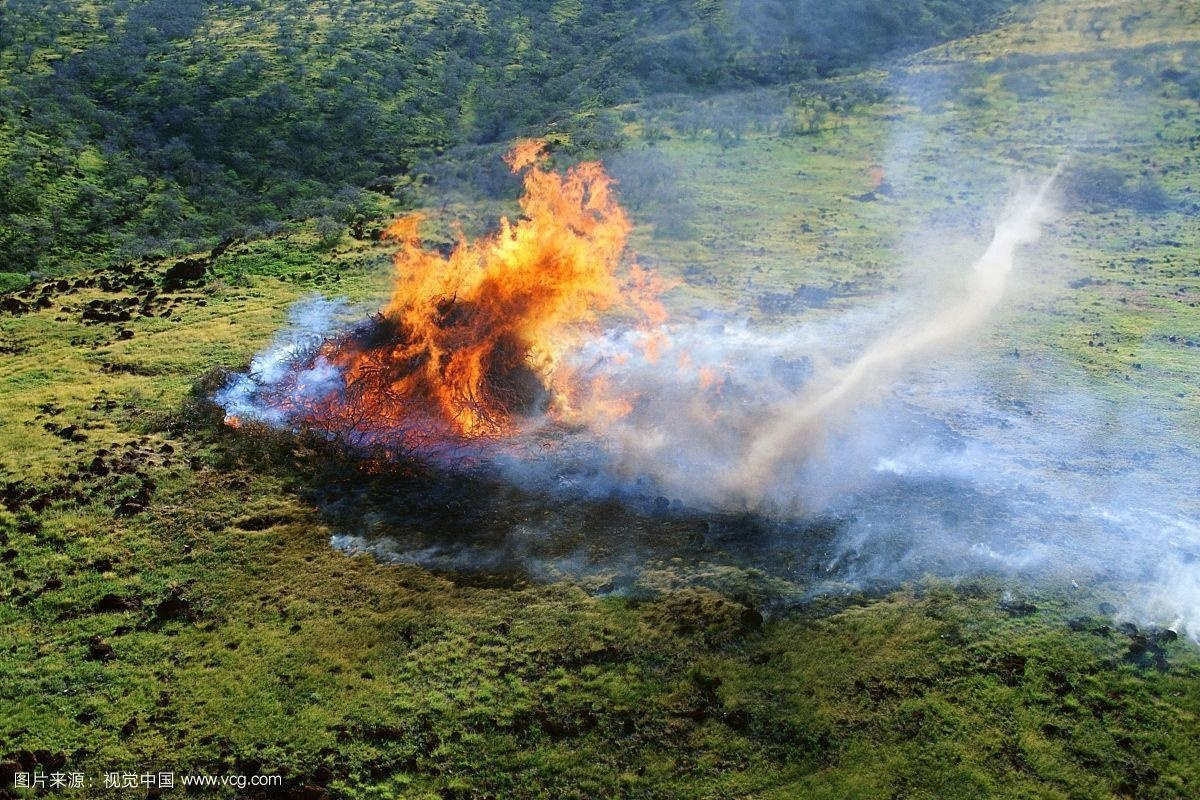fire: (301, 143, 702, 446)
